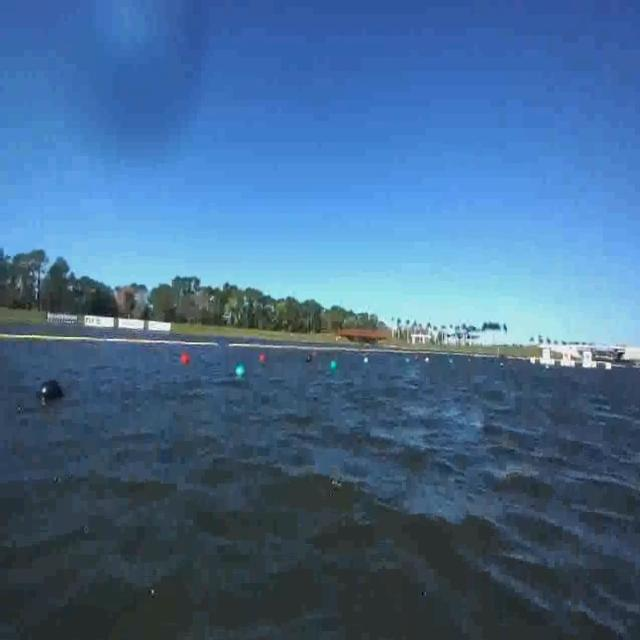black-buoy: (36, 378, 64, 403)
green-buoy: (237, 363, 246, 376), (330, 359, 336, 370)
red-buoy: (258, 348, 270, 368), (184, 353, 192, 366)
